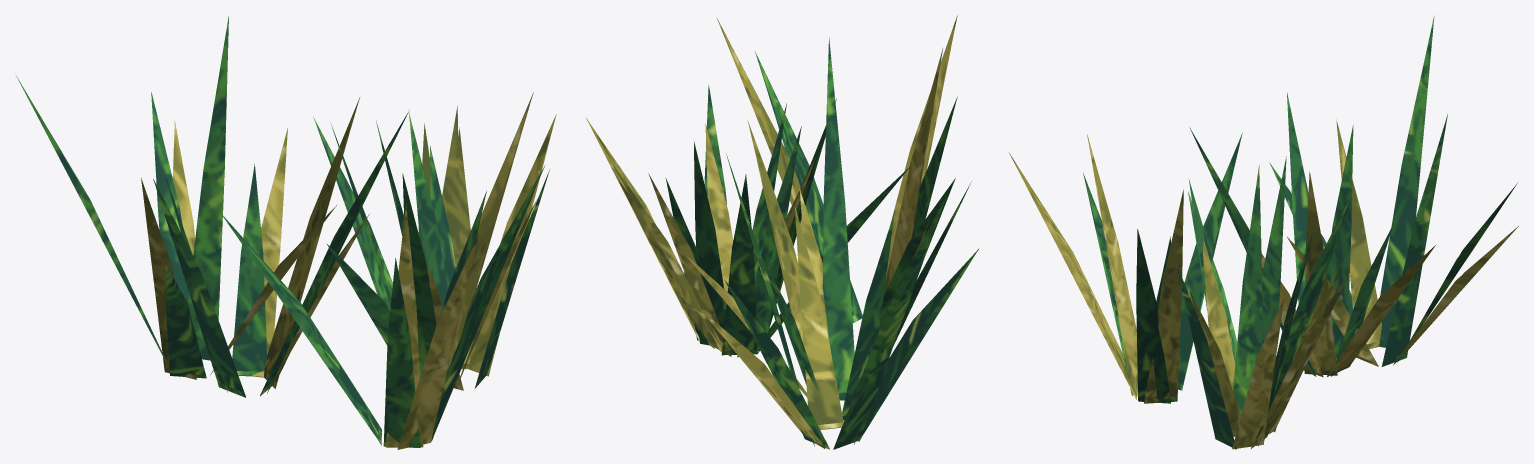
Rendered from tall_grass.glb.
The picture shows the model from 3 angles, left to right: view 1: azimuth 30°, elevation 25°; view 2: azimuth 150°, elevation 25°; view 3: azimuth 270°, elevation 25°; orthographic projection. The views are drawn at different scales.
Visible parts, largest first — view 1: Grass; view 2: Grass; view 3: Grass.
Part boxes in pixels (box(x1,y1,x2,y2)): Grass: box(16, 16, 556, 449); Grass: box(586, 15, 978, 449); Grass: box(1008, 16, 1518, 449).
Bounding box in the file's own units: 1.42 × 0.9209 × 1.53.
2 materials, 2 textured.
